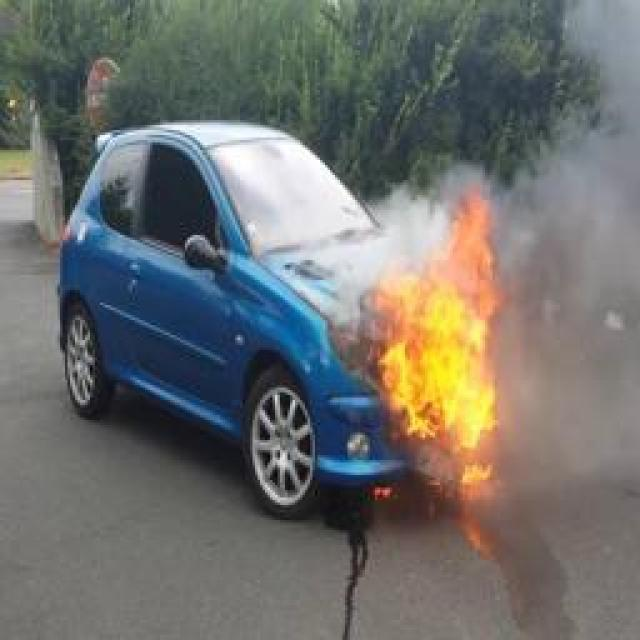Fire: (370, 192, 502, 566)
